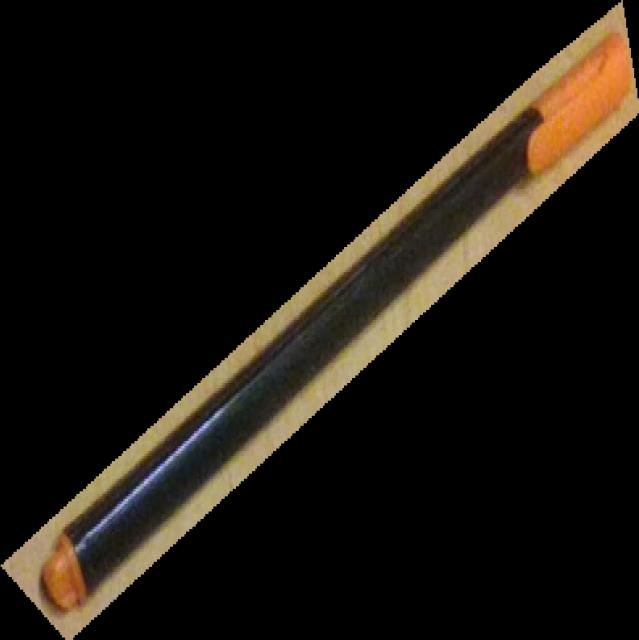orange: (0, 1, 639, 640)
